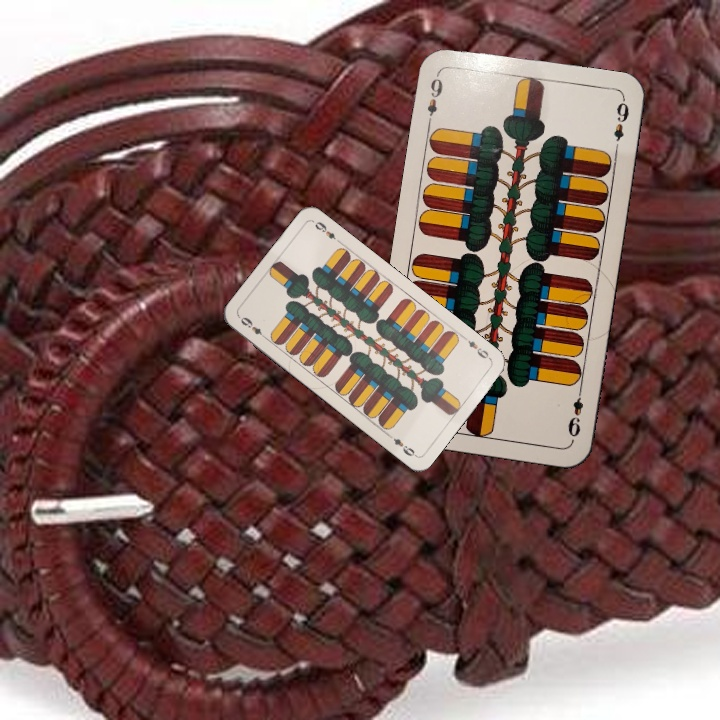E9: (563, 384, 586, 443), (423, 69, 445, 128), (236, 313, 270, 342), (459, 333, 493, 362)
